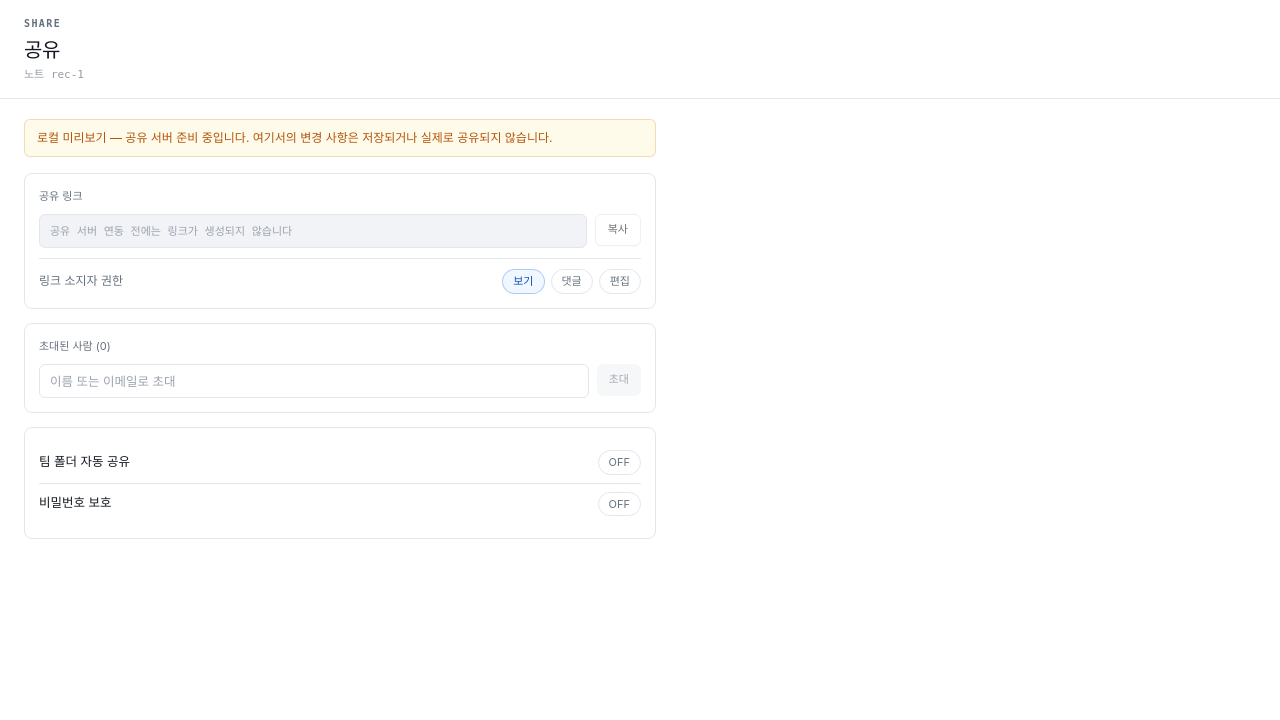
Test case: ShareScreen › shows the local-preview notice and adds a local invitee
This screenshot has width=1280, height=720.
Check: the text "로컬 미리보기 — 공유 서버 준비 중입니다. 여기서의 변경 사항은 저장되거나 실제로 공유되지 않습니다." is shown, box [24,118,656,156]
Type "seoyeon@theplato.io" into the field with placeholder "이름 또는 이메일로 초대" at (314, 381), box [39,364,589,398]
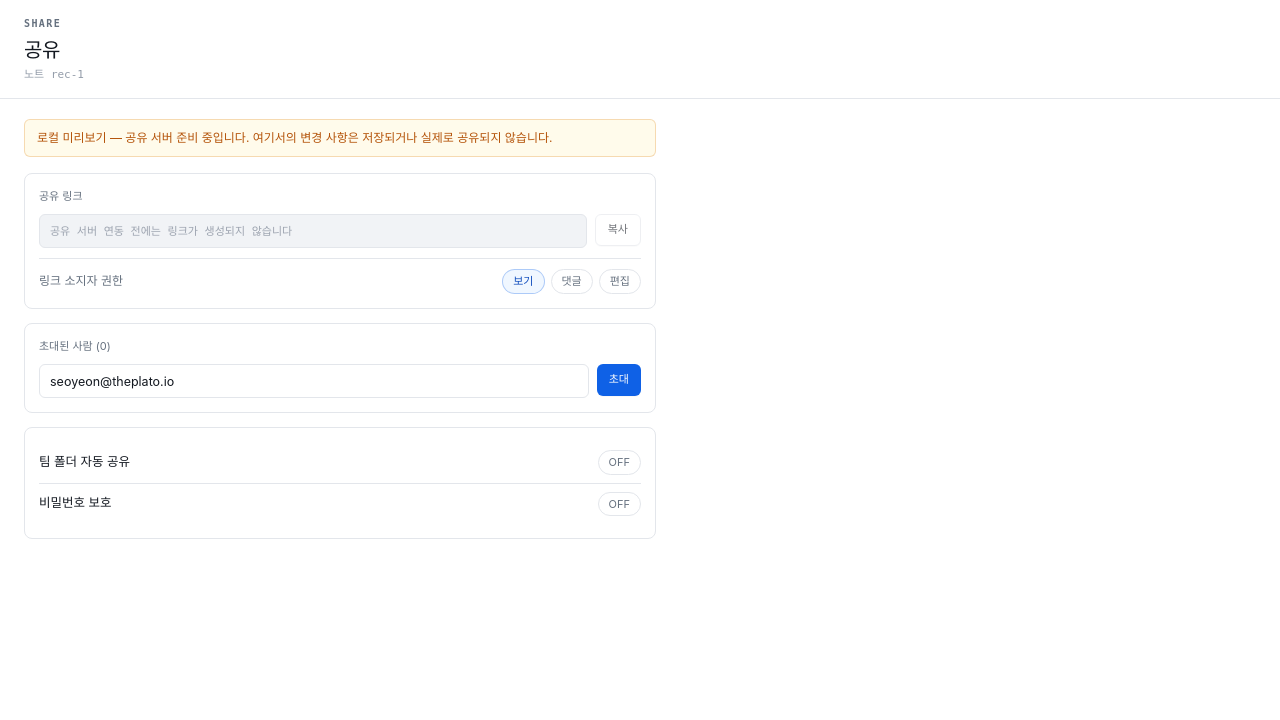
Click the button "초대" at (619, 380), box [597,364,641,396]
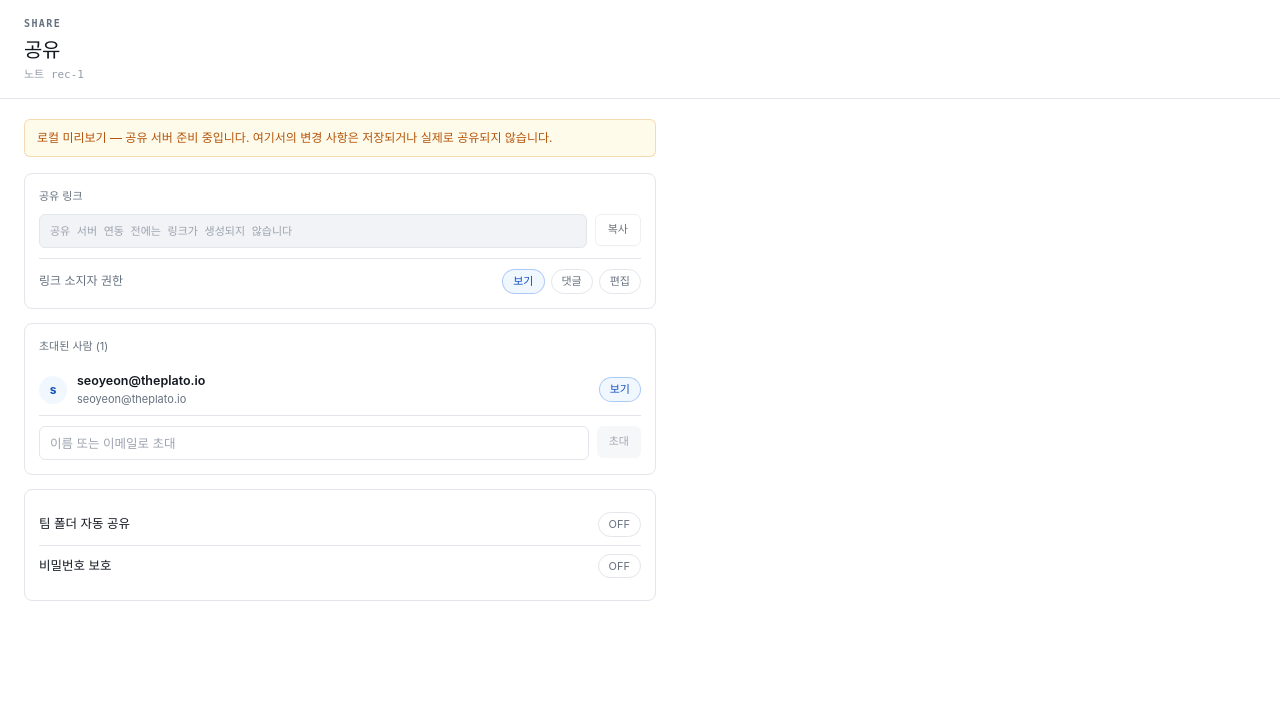
Check: the text "초대된 사람 (1)" is shown, box [39,338,108,352]
